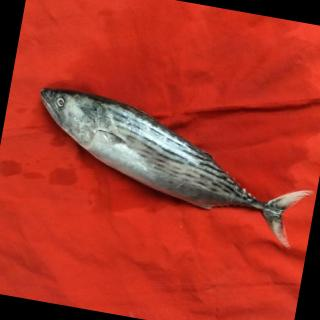Ikan: (20, 83, 317, 260)
